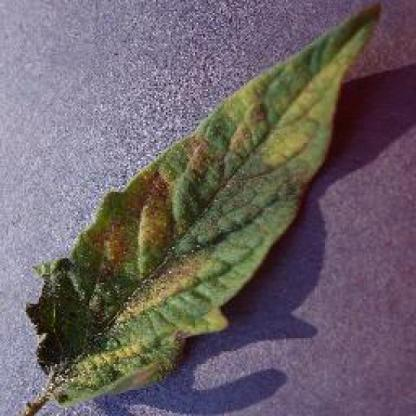Tomato_Leaf_Mold: (28, 4, 378, 401)
